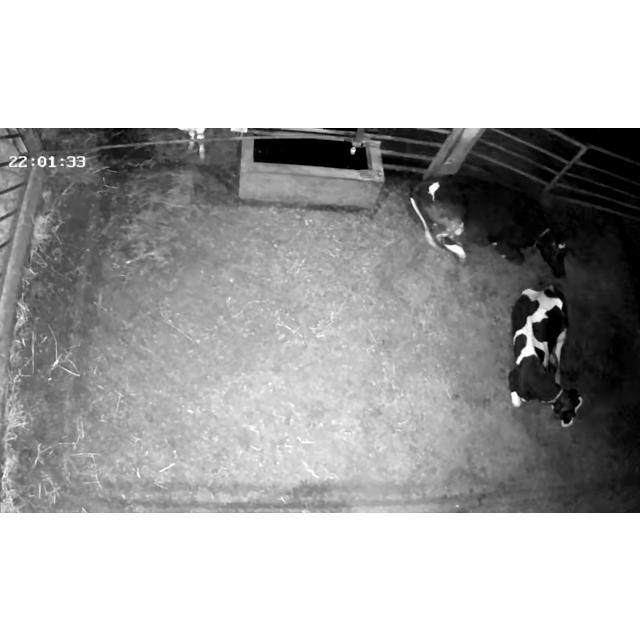lay: (408, 166, 578, 280), (498, 279, 594, 441)
